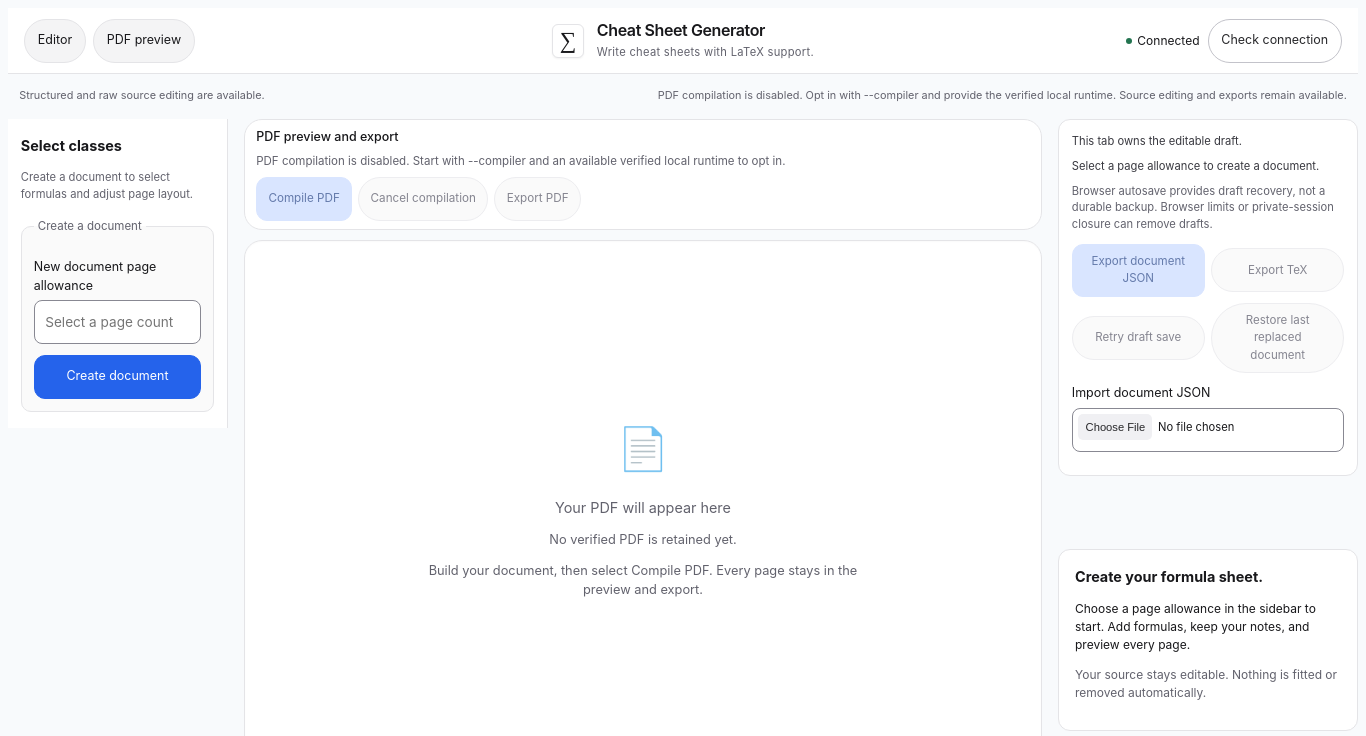
Test: the document title sits above class controls without inheriting their disabled fieldset
Type "3" into the number field labelled "New document page allowance" at (118, 322), box top-left (34, 300), bottom-right (201, 344)
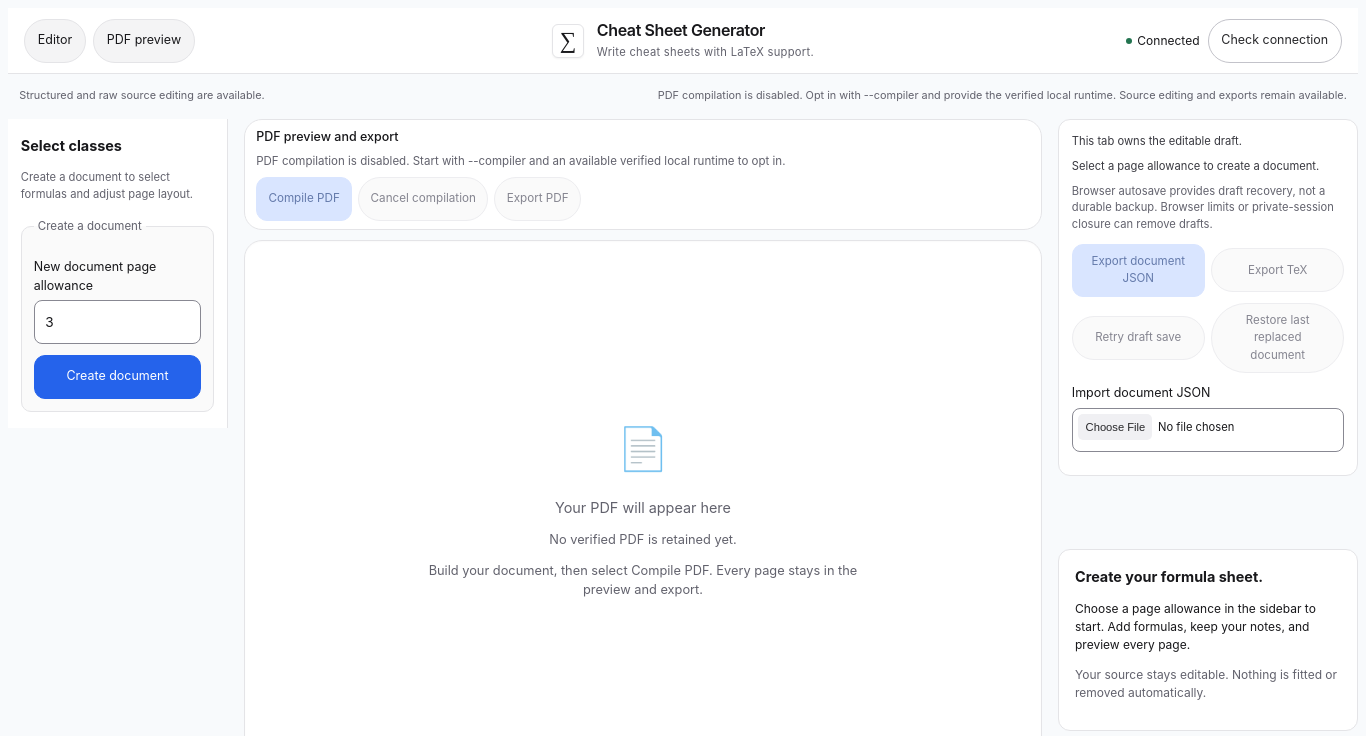
Click the button "Create document" at (118, 377), box top-left (34, 355), bottom-right (201, 399)
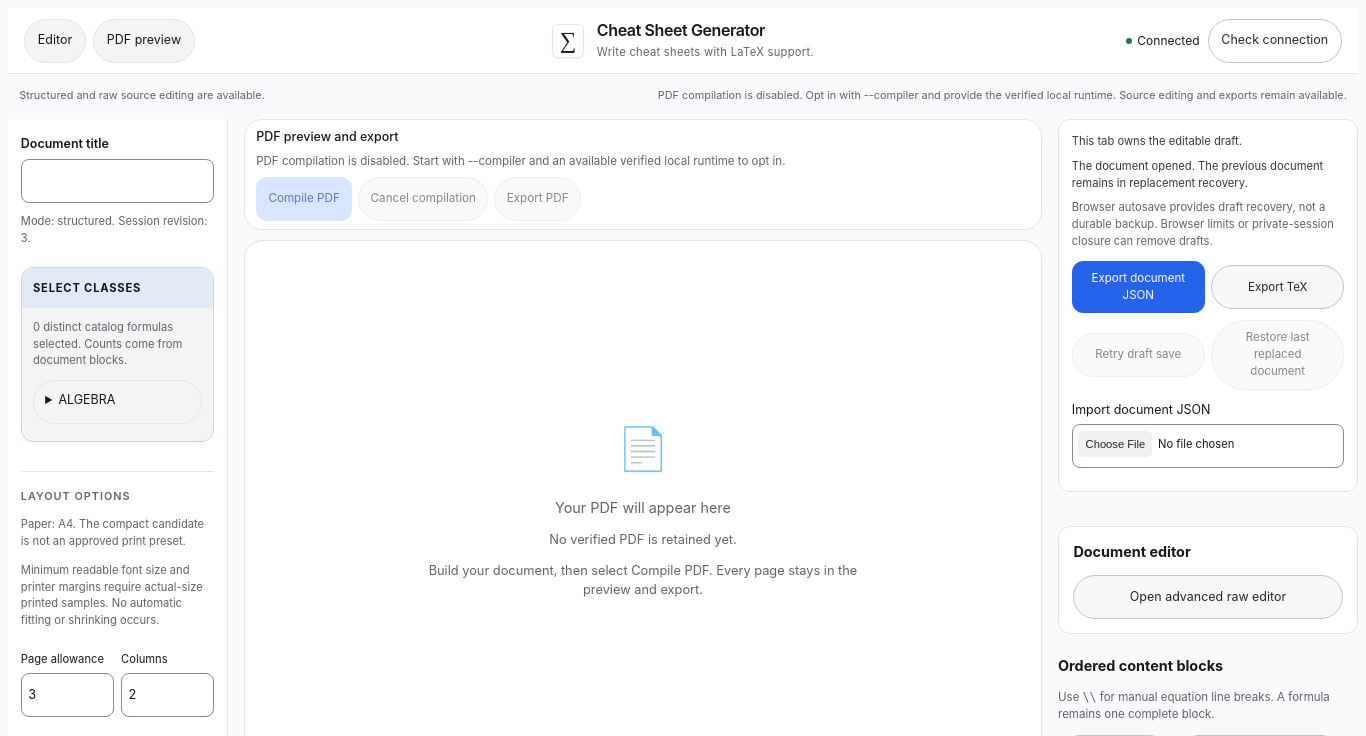
Expected: the heading "Select classes" is shown, top-left (22, 268), bottom-right (213, 308)
Expected: the field labelled "Document title" is shown, top-left (21, 159), bottom-right (214, 203)
